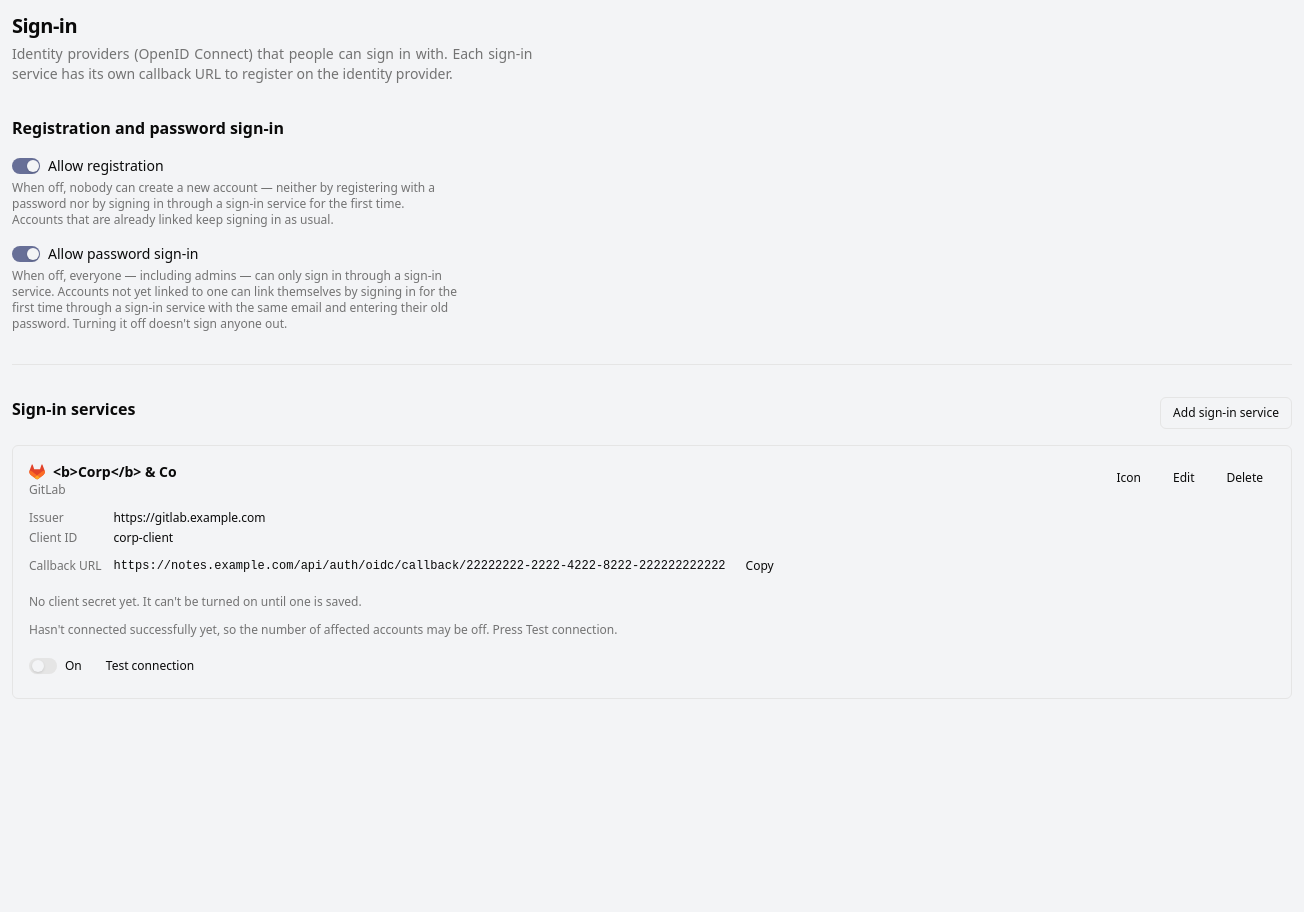
Test: SettingsAuthSection（#187 §9.4 /admin/auth） › 打開開關 → PATCH {enabled:true}；409 provider_secret_missing → toast、開關仍是關
The width and height of the screenshot is (1304, 912).
Click the switch named "On" below "Client ID" at (43, 666), box x1=29 y1=658 x2=57 y2=674
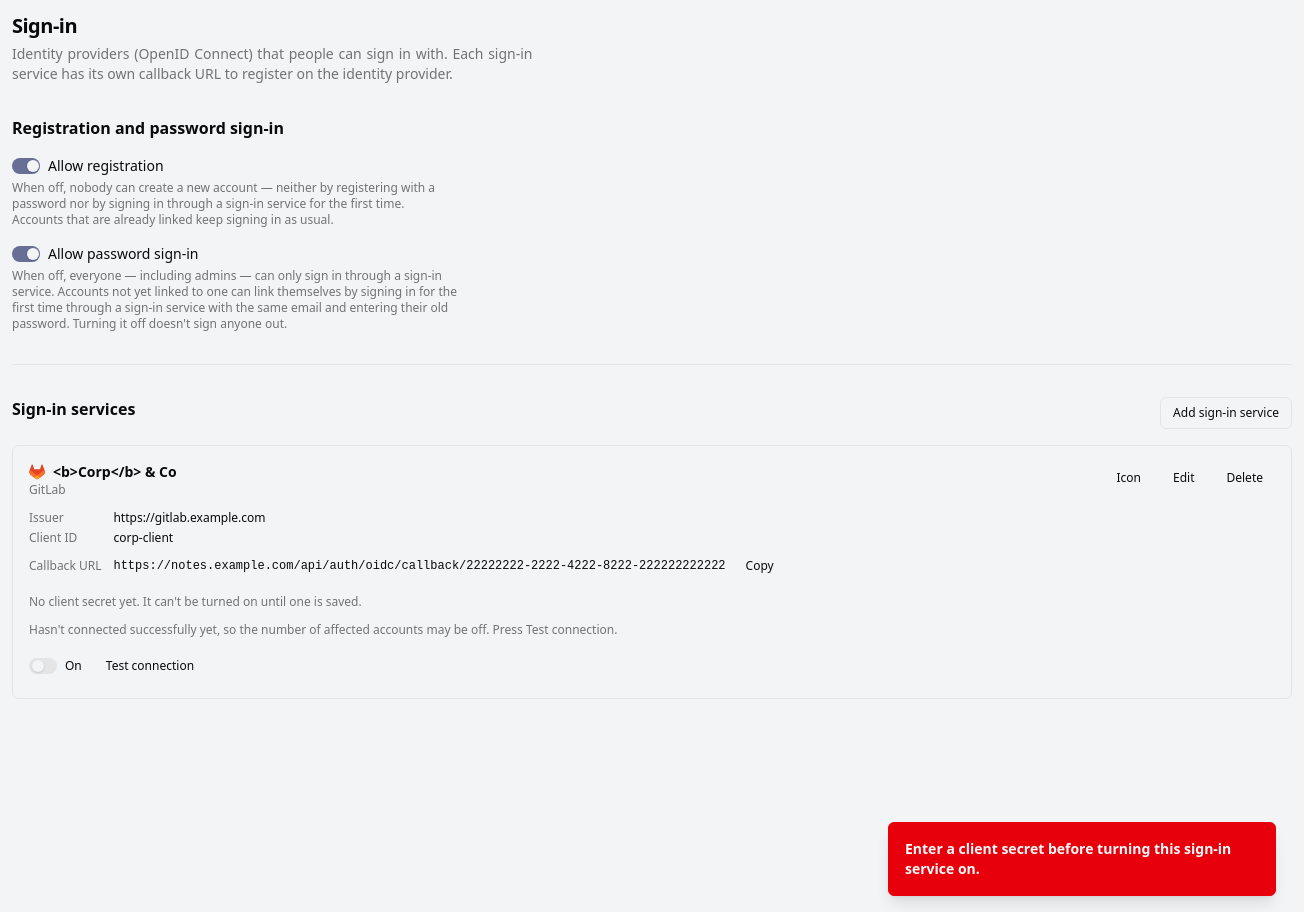
Result: the text "Enter a client secret before turning this sign-in service on." is shown at x1=905 y1=839 x2=1243 y2=879
